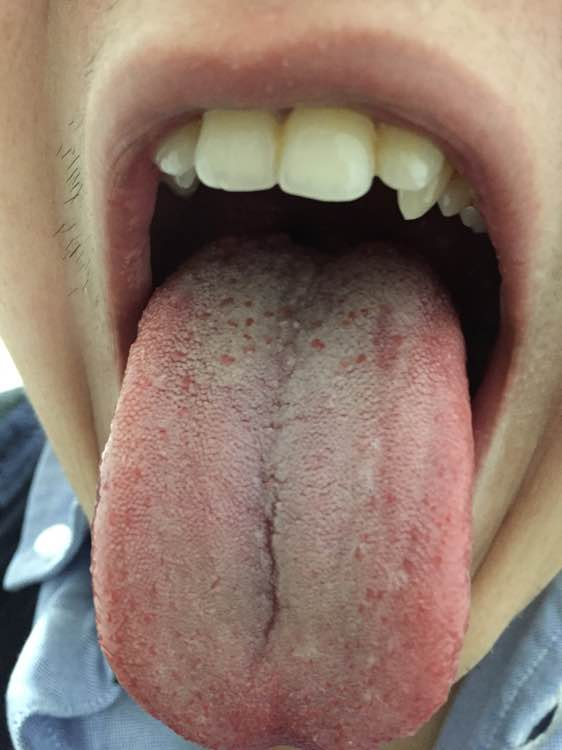baitaishe: (91, 231, 472, 750)
hongdianshe: (307, 333, 324, 352)
liewenshe: (259, 497, 281, 646)
